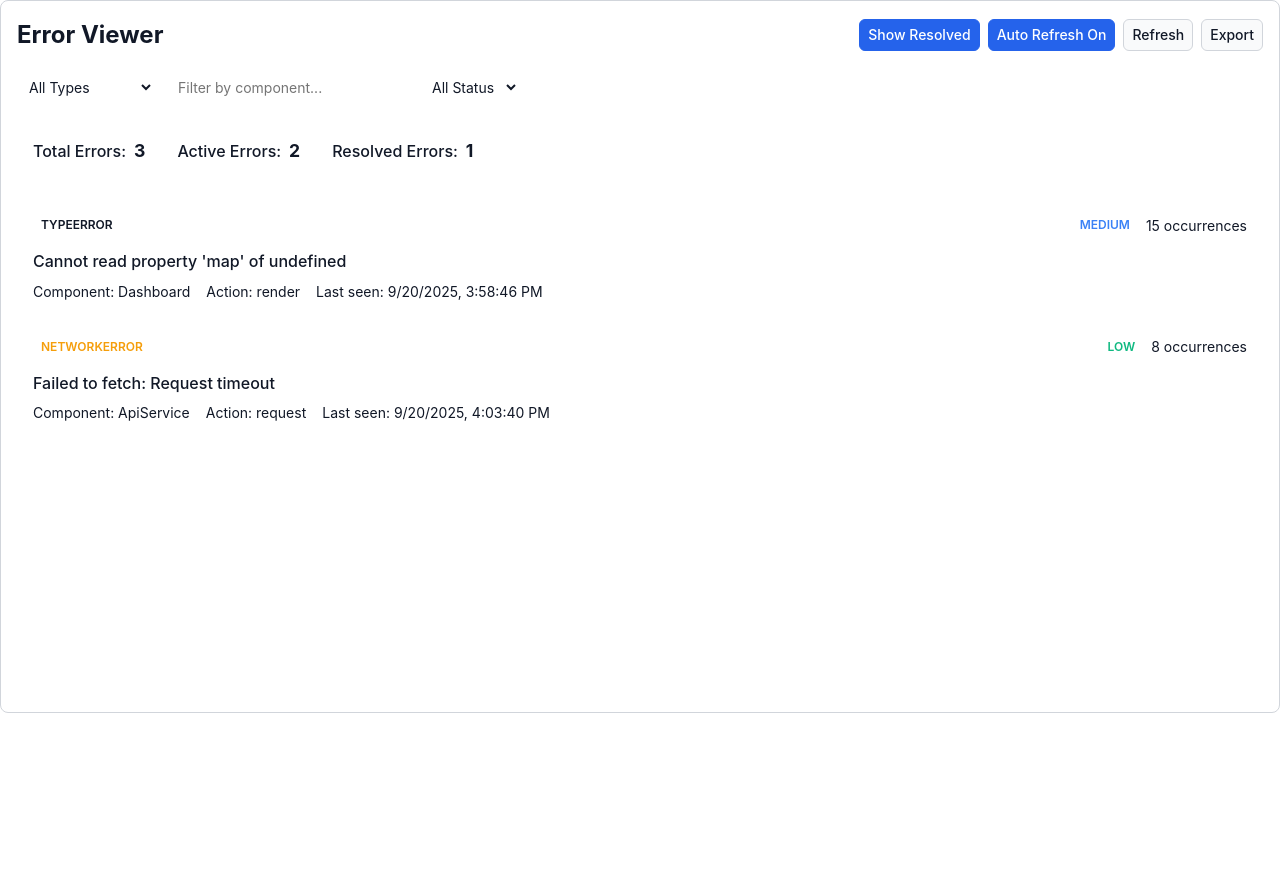
Scenario: ErrorViewer Component › shows error details when error item is clicked
The image size is (1280, 886).
Check: the heading "Error Viewer" is shown, box [17, 17, 163, 53]
Show resolved errors to have more options
Click the button "Show Resolved": (919, 35) [859, 19, 980, 51]
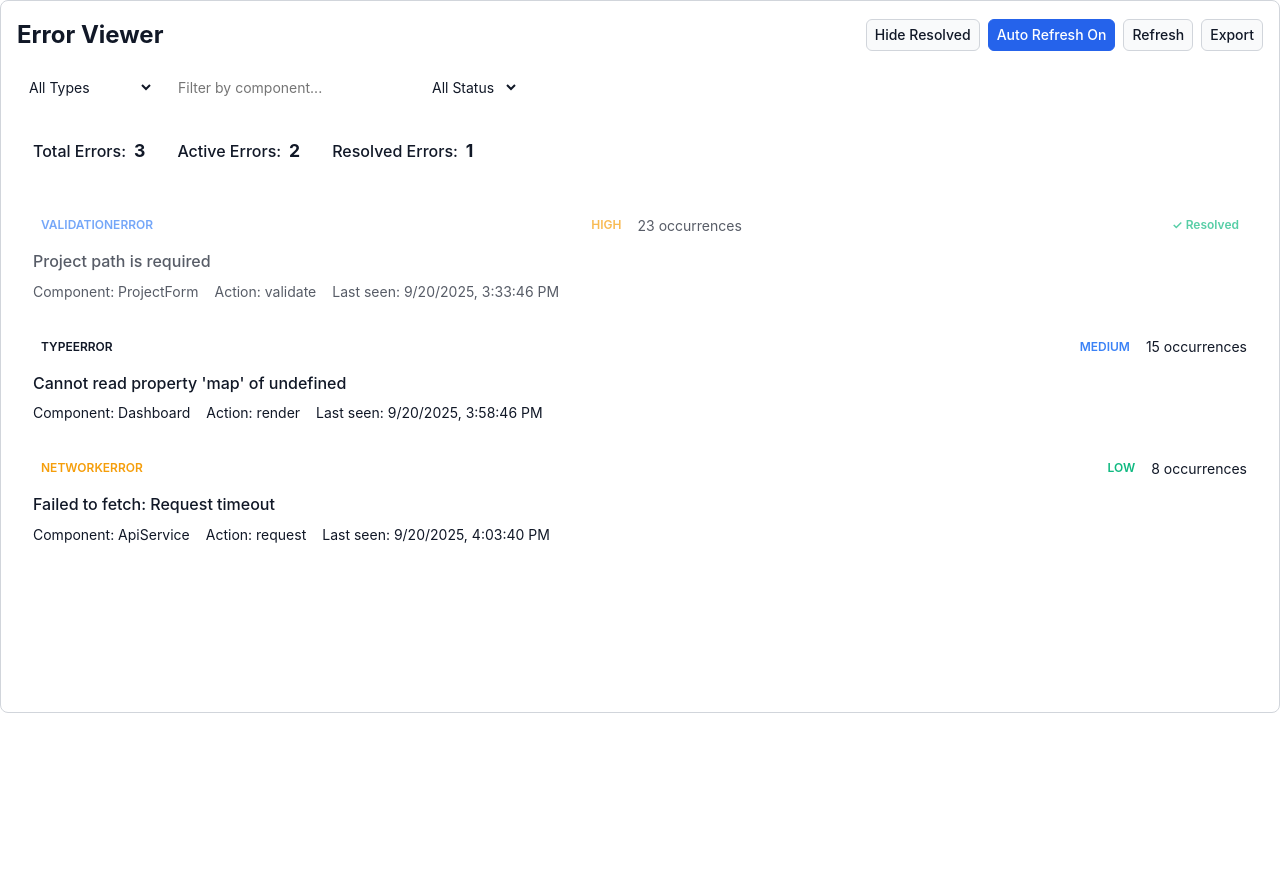
Click on an error item
Click the text "Project path is required": (122, 261) [33, 251, 211, 271]
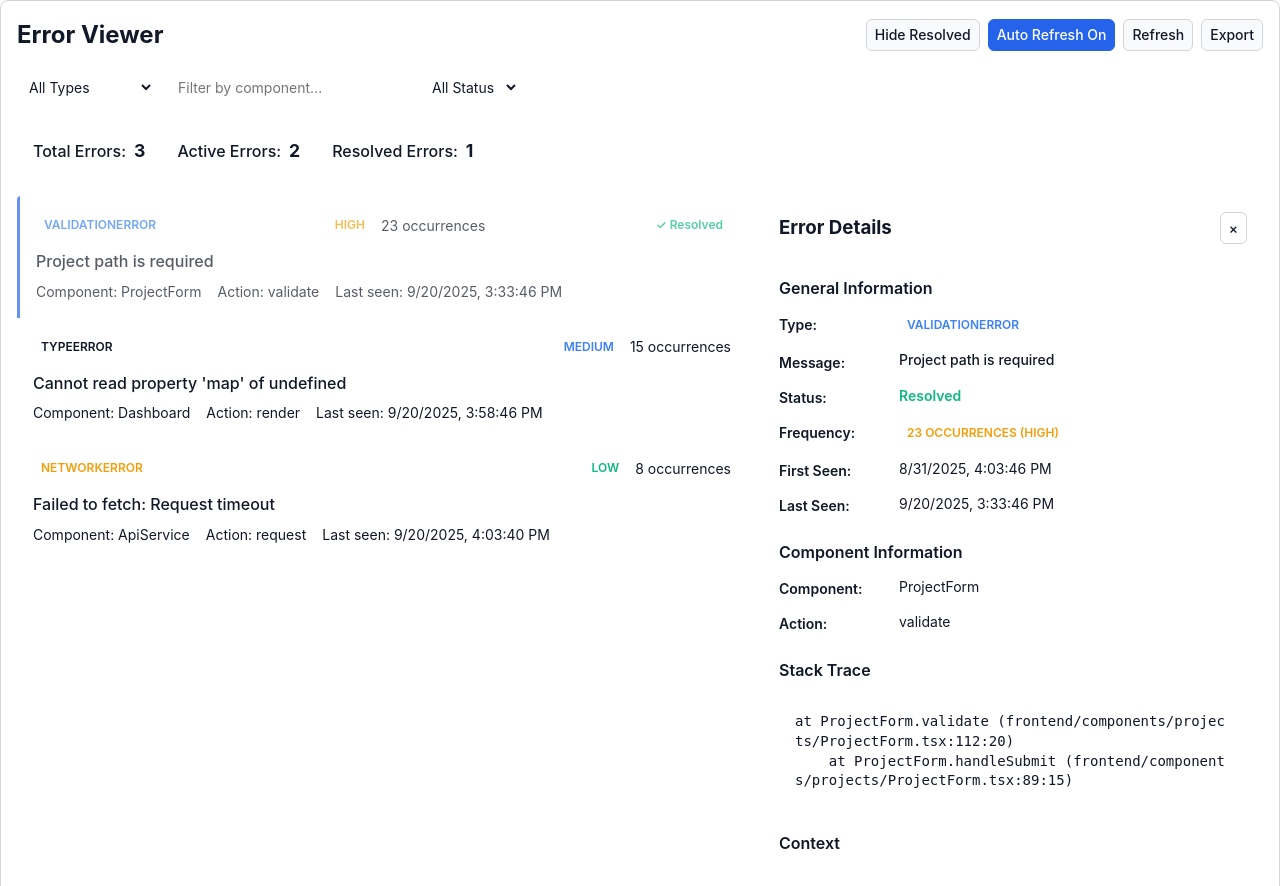
Check: the heading "Error Details" is shown, box [779, 214, 892, 242]
Check: the text "Type:" is shown, box [779, 316, 817, 333]
Check: the text "Message:" is shown, box [779, 354, 845, 371]
